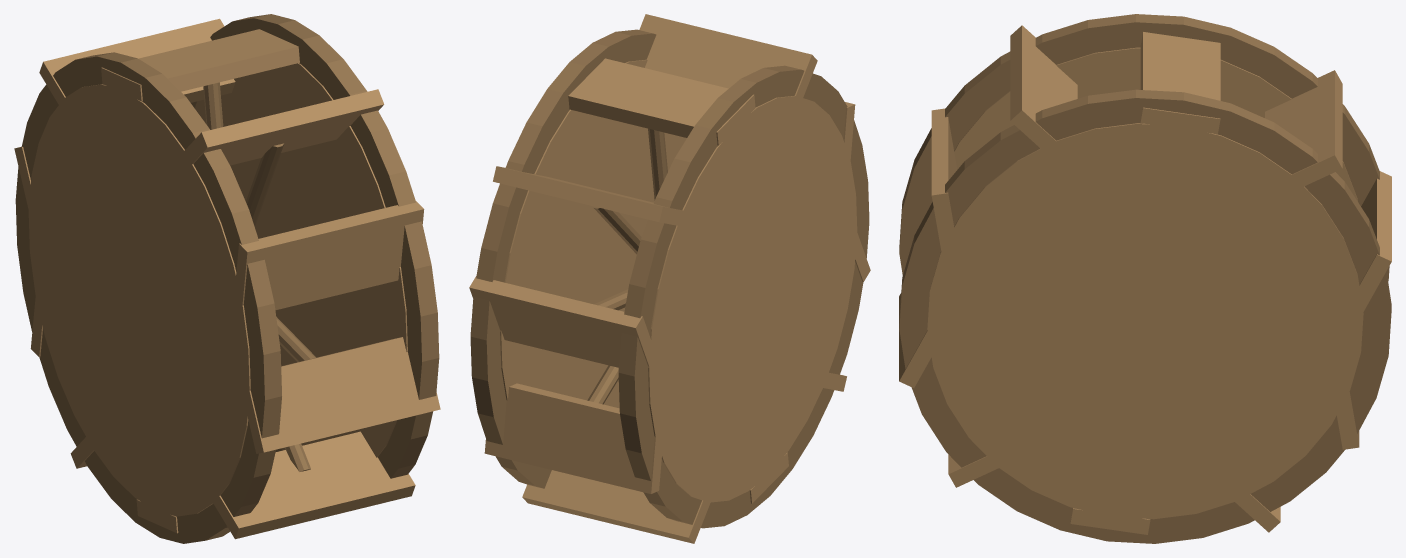
Rendered from hydro_rotor1.obj.
The picture shows the model from 3 angles, left to right: view 1: azimuth 30°, elevation 25°; view 2: azimuth 150°, elevation 25°; view 3: azimuth 270°, elevation 25°; orthographic projection. The views are drawn at different scales.
Bounding box in the file's own units: 0.36 × 0.8793 × 0.8804.
1 material, 1 textured.
